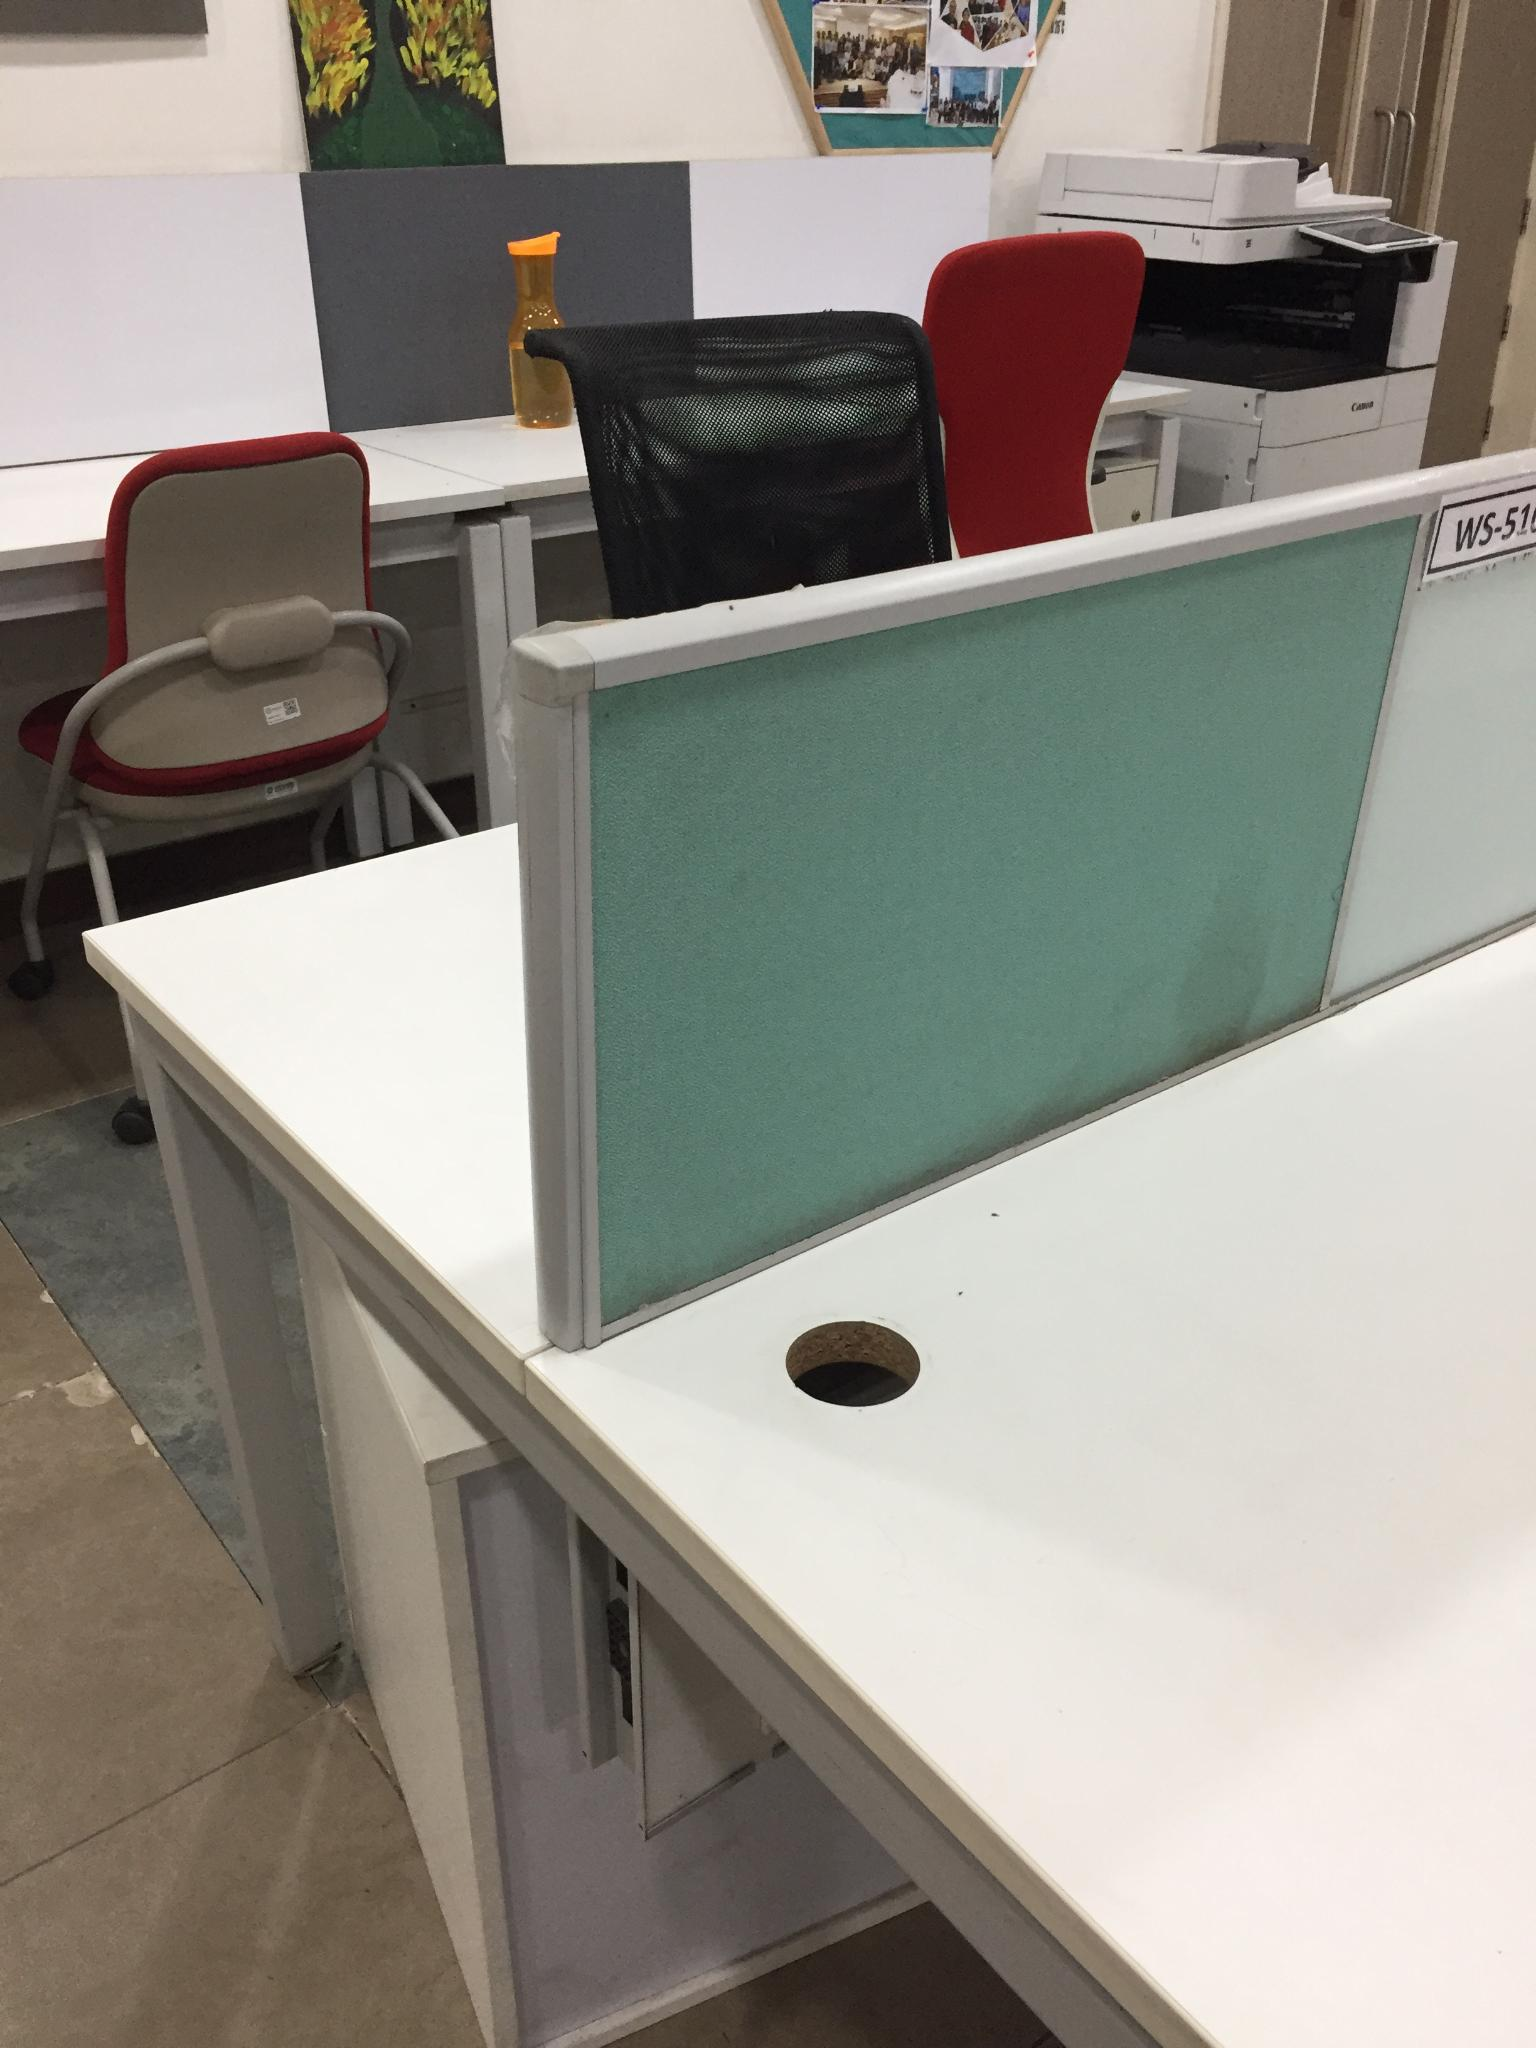chair: (6, 412, 490, 1130), (512, 280, 932, 862), (921, 228, 1147, 558)
